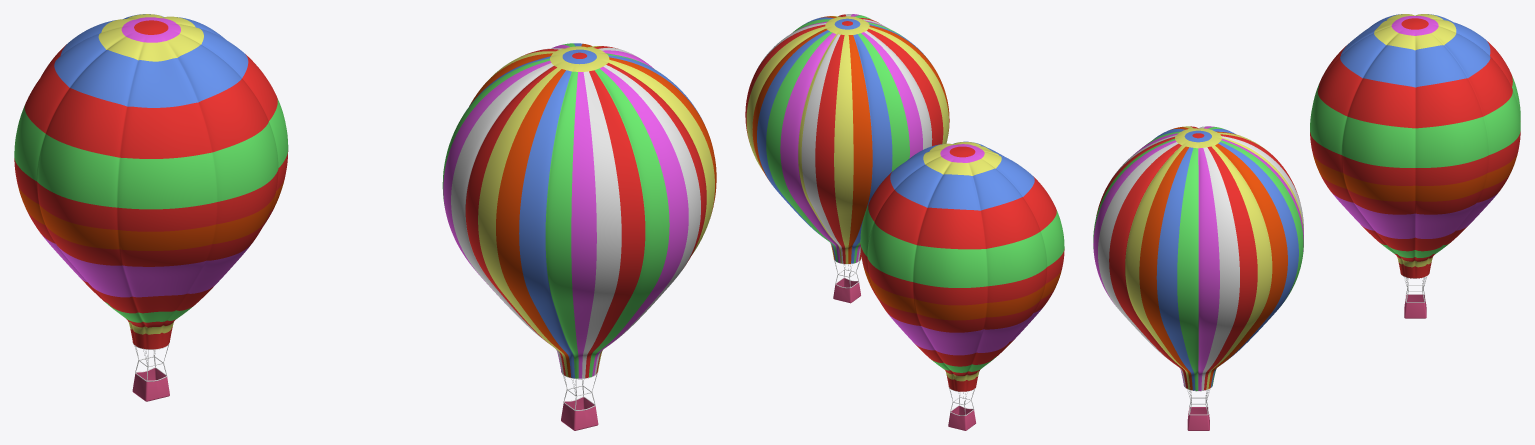
File: baloons.fbx
3 views of the same model, side by side, from view 1: azimuth 30°, elevation 25°; view 2: azimuth 150°, elevation 25°; view 3: azimuth 270°, elevation 25° (orthographic). The views are drawn at different scales.
Parts seen in each view (by area): view 1: Sphere_Sphere.006, Sphere.003_Sphere.007, Cube.003_Cube.006, Cube_Cube.001; view 2: Sphere.003_Sphere.007, Sphere_Sphere.006, Cube_Cube.001, Cube.003_Cube.006; view 3: Sphere.003_Sphere.007, Sphere_Sphere.006, Cube.003_Cube.006, Cube_Cube.001.
Boxes of the visible parts, box(x1,y1,x2,y2) form: Sphere_Sphere.006: box(442, 43, 716, 378); Sphere.003_Sphere.007: box(14, 14, 288, 349); Cube.003_Cube.006: box(132, 368, 169, 401); Cube_Cube.001: box(561, 397, 598, 430); Sphere.003_Sphere.007: box(860, 141, 1064, 391); Sphere_Sphere.006: box(745, 14, 949, 263); Cube_Cube.001: box(833, 278, 860, 303); Cube.003_Cube.006: box(948, 406, 975, 430); Sphere.003_Sphere.007: box(1310, 14, 1520, 278); Sphere_Sphere.006: box(1093, 126, 1303, 390); Cube.003_Cube.006: box(1404, 294, 1426, 318); Cube_Cube.001: box(1187, 407, 1209, 430).
Size of the model in its own units: 6.49 by 4.37 by 5.82.
